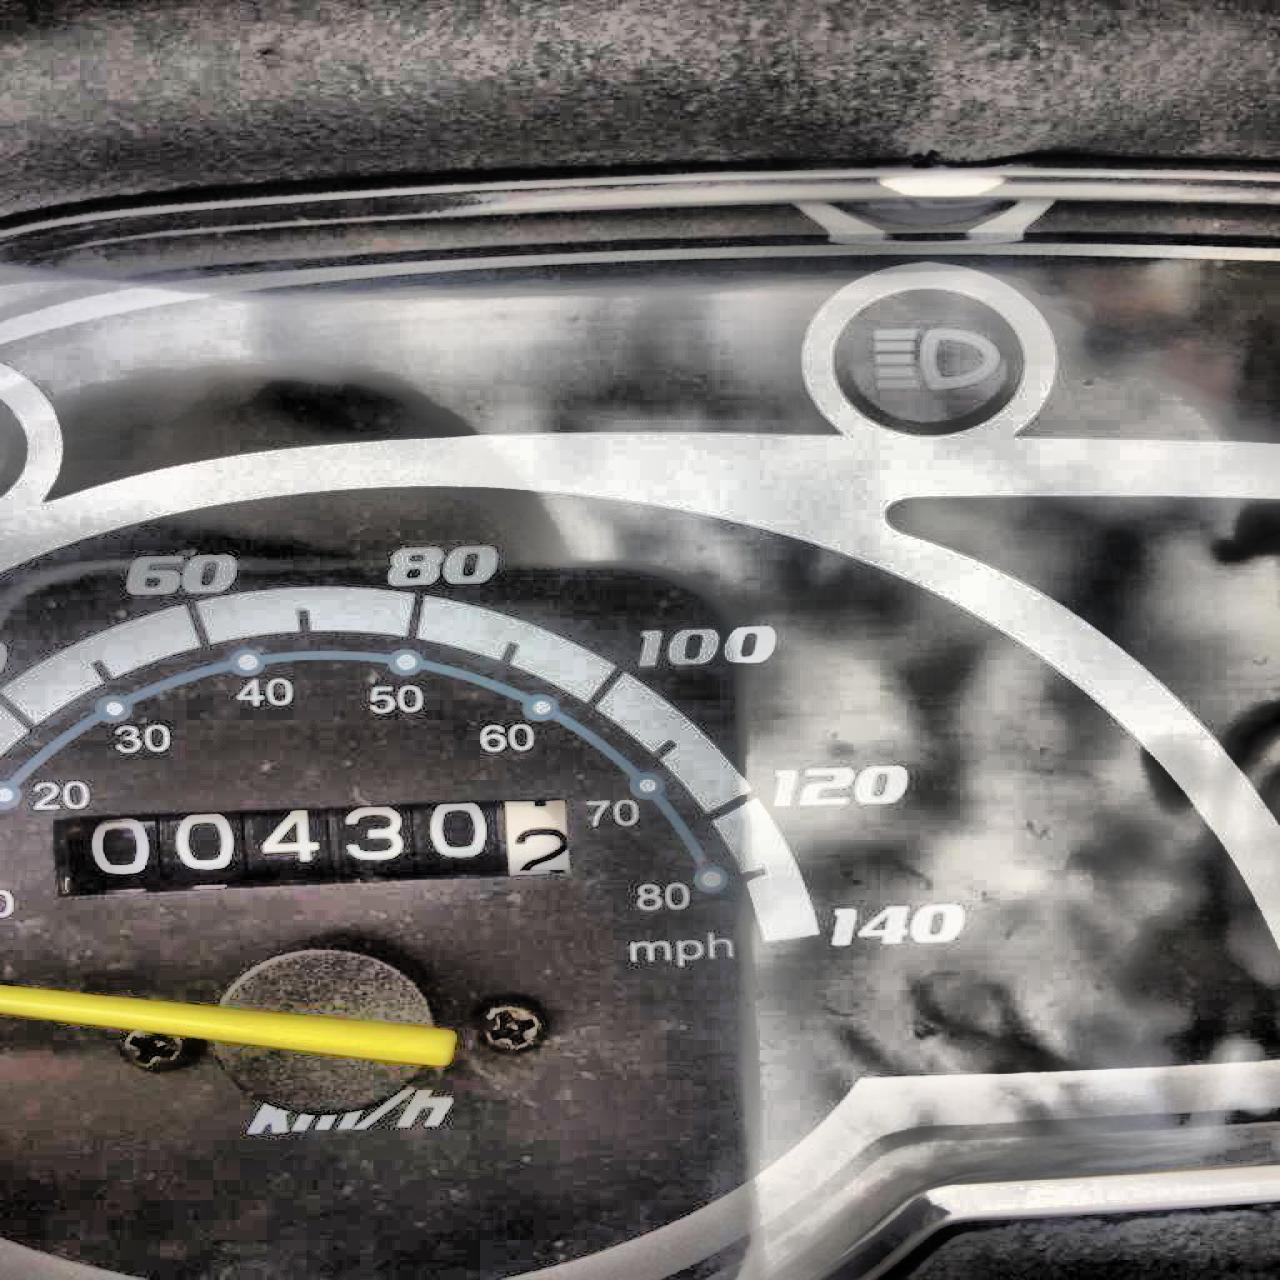0: (84, 815, 148, 874), (172, 811, 236, 870), (424, 802, 489, 859), (59, 792, 91, 809)
2: (509, 824, 568, 872), (40, 791, 59, 810)
3: (342, 805, 406, 862)
4: (257, 808, 320, 862)
odometer: (39, 791, 577, 900)
